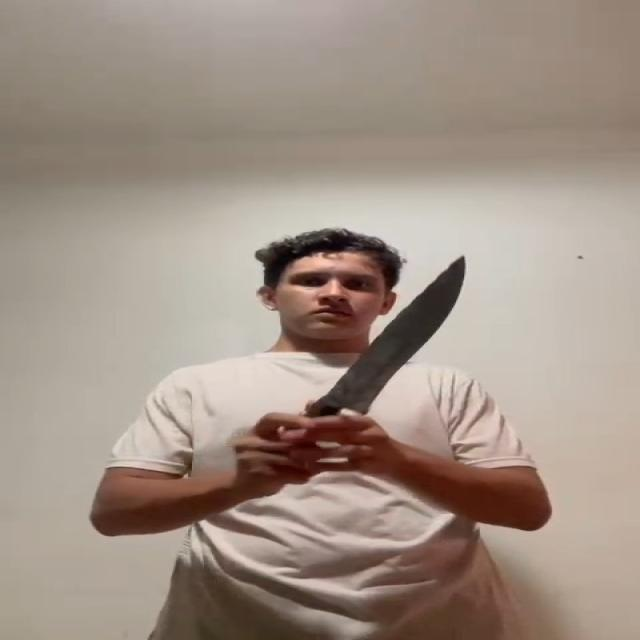knife: (320, 255, 473, 426)
